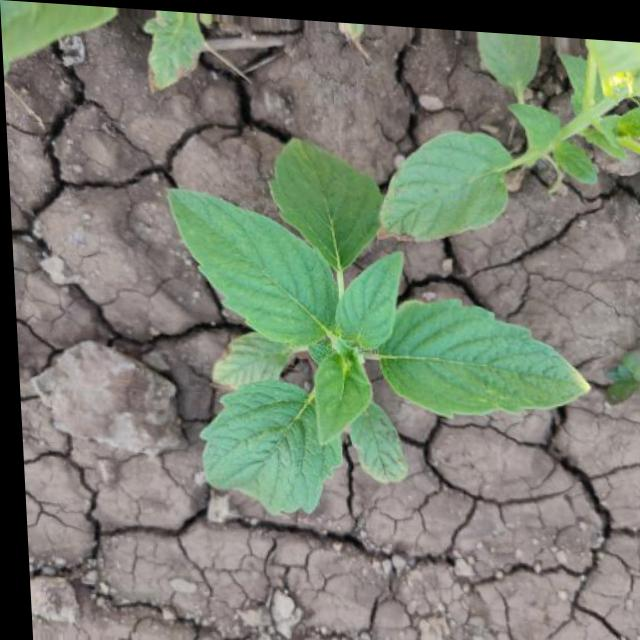crop: (154, 118, 585, 520)
